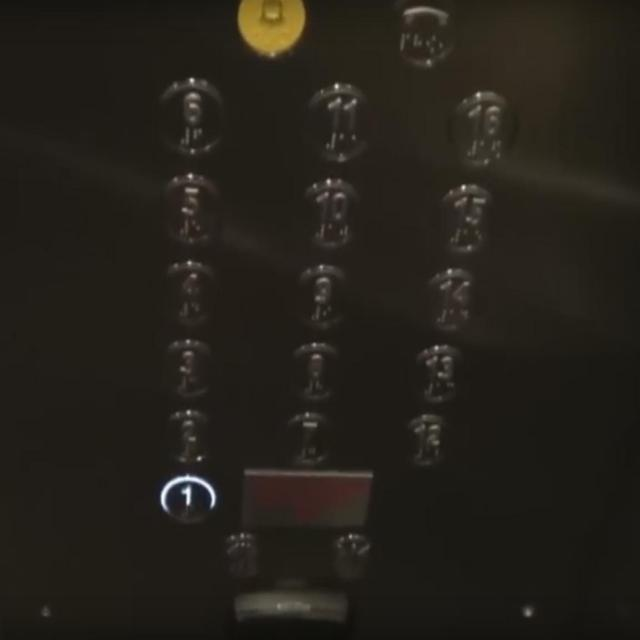1: (159, 472, 216, 528)
10: (296, 175, 362, 253)
11: (300, 78, 373, 166)
12: (400, 411, 450, 469)
13: (407, 340, 469, 408)
14: (421, 264, 481, 334)
15: (433, 182, 495, 257)
16: (449, 86, 515, 172)
2: (162, 406, 216, 468)
3: (158, 334, 218, 402)
4: (156, 256, 221, 327)
5: (155, 169, 225, 252)
6: (156, 74, 227, 161)
7: (279, 408, 335, 468)
8: (287, 339, 343, 402)
9: (289, 262, 351, 334)
alarm: (232, 0, 306, 61)
call: (393, 0, 456, 71)
close: (326, 530, 374, 580)
open: (219, 530, 266, 580)
